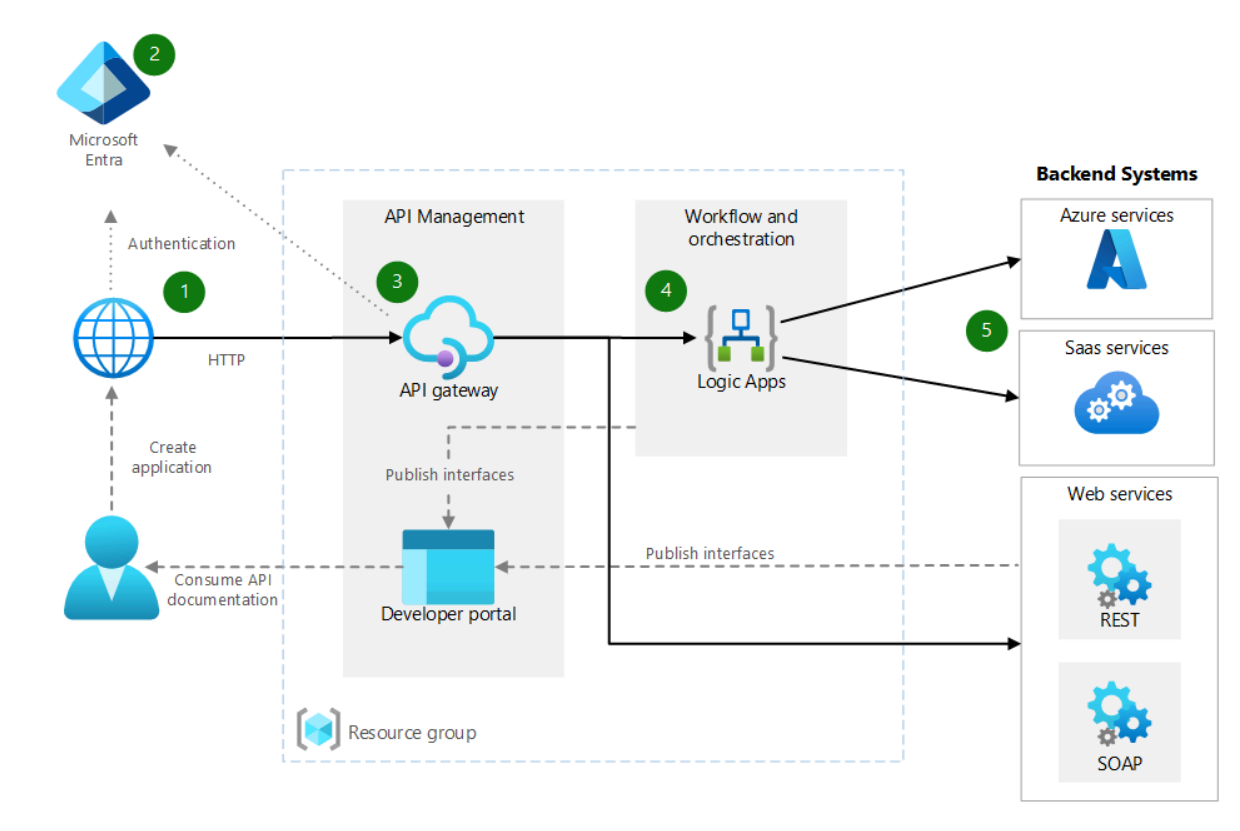api: (1083, 679, 1160, 777), (1081, 540, 1158, 632)
azure_services: (1054, 203, 1181, 296)
developer_portal: (396, 525, 496, 604)
logic_apps: (702, 297, 777, 372)
microsoft_entra: (51, 37, 155, 126), (400, 295, 496, 381)
resource_group: (70, 296, 156, 379), (292, 702, 343, 751)
sass_services: (1064, 364, 1168, 439)
user: (61, 516, 160, 622)
